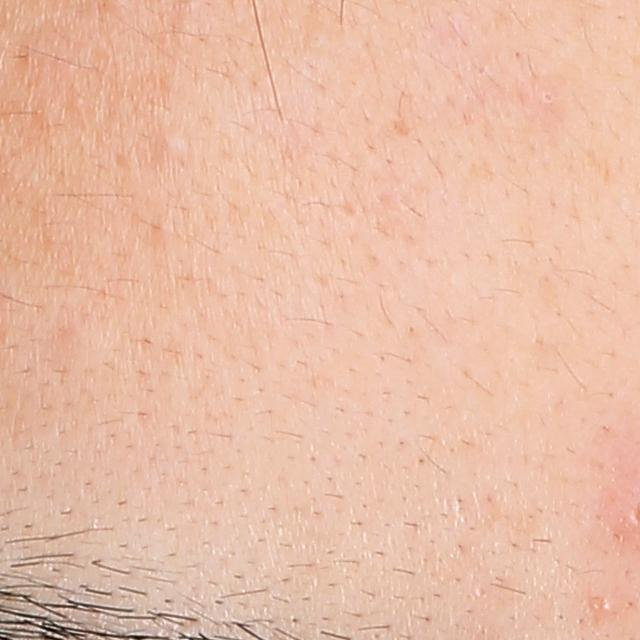comedo: (541, 89, 561, 107)
